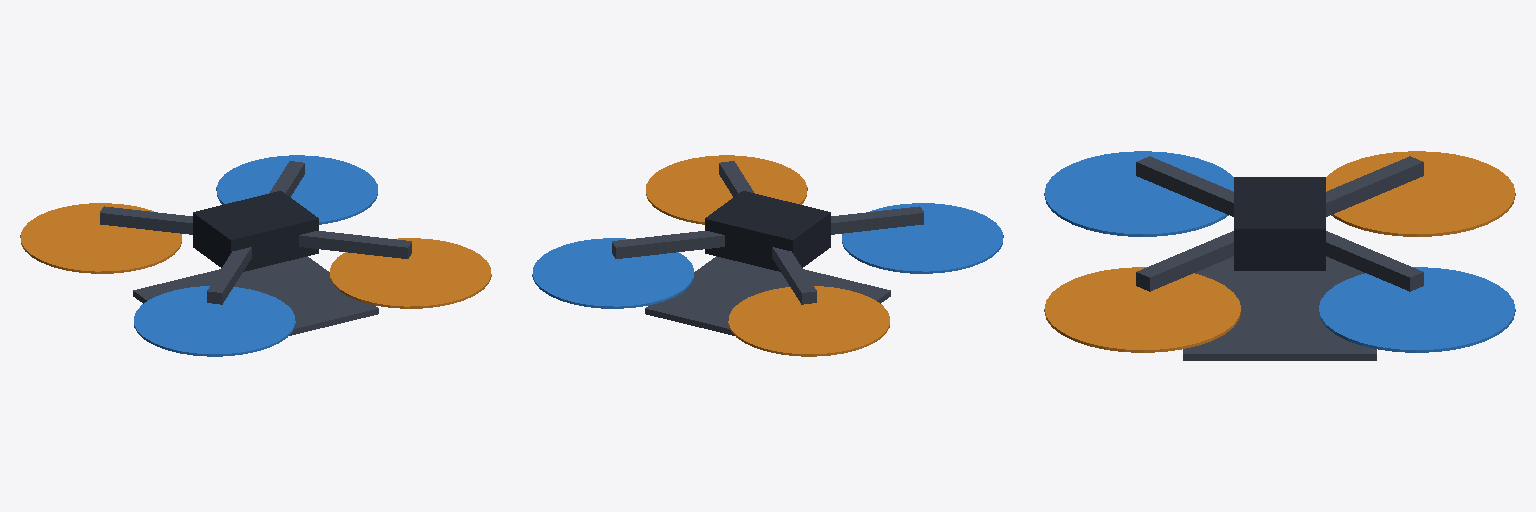
robot.urdf — quad_x500_inverted:
<?xml version="1.0"?>
<!-- The sample quadcopter with its motors upside down under the arms: each propeller sits 4 cm
     below its arm and pushes the air down past nothing but the ground (a pusher on its motor).
     The joint axes point from the motor to the propeller, down; the overlay mounts the
     propellers as pushers, so their thrust is up. Otherwise quad_x500.urdf: PX4's Quadrotor X
     numbering and senses seen from above, the same frame, rotors, motors and battery
     (quad_x500.overlay.yaml with aero:rotor:mount pusher). Illustrative, not a real product. -->
<robot name="quad_x500_inverted">
  <material name="frame"><color rgba="0.18 0.2 0.24 1"/></material>
  <material name="arm"><color rgba="0.3 0.33 0.38 1"/></material>
  <material name="prop_ccw"><color rgba="0.85 0.55 0.2 1"/></material>
  <material name="prop_cw"><color rgba="0.25 0.55 0.85 1"/></material>

  <link name="base_link">
    <!-- 1.9 kg: frame, arms, battery, electronics; inertia of a 2 kg X500-class airframe. -->
    <inertial>
      <origin xyz="0 0 0"/>
      <mass value="1.9"/>
      <inertia ixx="0.0217" iyy="0.0217" izz="0.04" ixy="0" ixz="0" iyz="0"/>
    </inertial>
    <visual>
      <geometry><box size="0.16 0.12 0.06"/></geometry>
      <material name="frame"/>
    </visual>
    <visual>
      <origin xyz="0 0 0" rpy="0 0 0.7853981634"/>
      <geometry><box size="0.5 0.025 0.02"/></geometry>
      <material name="arm"/>
    </visual>
    <visual>
      <origin xyz="0 0 0" rpy="0 0 -0.7853981634"/>
      <geometry><box size="0.5 0.025 0.02"/></geometry>
      <material name="arm"/>
    </visual>
    <visual>
      <origin xyz="0 0 -0.12"/>
      <geometry><box size="0.3 0.25 0.01"/></geometry>
      <material name="arm"/>
    </visual>
    <collision>
      <geometry><box size="0.16 0.12 0.06"/></geometry>
    </collision>
    <!-- Landing gear: a skid plate 12.5 cm under the frame's centre. -->
    <collision>
      <origin xyz="0 0 -0.12"/>
      <geometry><box size="0.3 0.25 0.01"/></geometry>
    </collision>
  </link>
  <link name="rotor_1_link">
    <!-- Motor bell and propeller: 25 g; about the axis like a 10-inch two-blade propeller. -->
    <inertial>
      <mass value="0.025"/>
      <inertia ixx="0.000045" iyy="0.000045" izz="0.00009" ixy="0" ixz="0" iyz="0"/>
    </inertial>
    <visual>
      <geometry><cylinder radius="0.127" length="0.004"/></geometry>
      <material name="prop_ccw"/>
    </visual>
  </link>
  <joint name="rotor_1_joint" type="continuous">
    <parent link="base_link"/>
    <child link="rotor_1_link"/>
    <origin xyz="0.177 -0.177 -0.04"/>
    <axis xyz="0 0 -1"/>
  </joint>
  <link name="rotor_2_link">
    <!-- Motor bell and propeller: 25 g; about the axis like a 10-inch two-blade propeller. -->
    <inertial>
      <mass value="0.025"/>
      <inertia ixx="0.000045" iyy="0.000045" izz="0.00009" ixy="0" ixz="0" iyz="0"/>
    </inertial>
    <visual>
      <geometry><cylinder radius="0.127" length="0.004"/></geometry>
      <material name="prop_ccw"/>
    </visual>
  </link>
  <joint name="rotor_2_joint" type="continuous">
    <parent link="base_link"/>
    <child link="rotor_2_link"/>
    <origin xyz="-0.177 0.177 -0.04"/>
    <axis xyz="0 0 -1"/>
  </joint>
  <link name="rotor_3_link">
    <!-- Motor bell and propeller: 25 g; about the axis like a 10-inch two-blade propeller. -->
    <inertial>
      <mass value="0.025"/>
      <inertia ixx="0.000045" iyy="0.000045" izz="0.00009" ixy="0" ixz="0" iyz="0"/>
    </inertial>
    <visual>
      <geometry><cylinder radius="0.127" length="0.004"/></geometry>
      <material name="prop_cw"/>
    </visual>
  </link>
  <joint name="rotor_3_joint" type="continuous">
    <parent link="base_link"/>
    <child link="rotor_3_link"/>
    <origin xyz="0.177 0.177 -0.04"/>
    <axis xyz="0 0 -1"/>
  </joint>
  <link name="rotor_4_link">
    <!-- Motor bell and propeller: 25 g; about the axis like a 10-inch two-blade propeller. -->
    <inertial>
      <mass value="0.025"/>
      <inertia ixx="0.000045" iyy="0.000045" izz="0.00009" ixy="0" ixz="0" iyz="0"/>
    </inertial>
    <visual>
      <geometry><cylinder radius="0.127" length="0.004"/></geometry>
      <material name="prop_cw"/>
    </visual>
  </link>
  <joint name="rotor_4_joint" type="continuous">
    <parent link="base_link"/>
    <child link="rotor_4_link"/>
    <origin xyz="-0.177 -0.177 -0.04"/>
    <axis xyz="0 0 -1"/>
  </joint>
  <!-- The motors take torque commands (from the built-in controller, or an autopilot through
       the MAVLink bridge), which the electrical domain turns into motor torque. -->
  <ros2_control name="LagrangeSystem" type="system">
    <hardware>
      <plugin>lagrange_ros2_control/LagrangeSystem</plugin>
    </hardware>
    <joint name="rotor_1_joint">
      <command_interface name="effort"/>
      <state_interface name="position"/>
      <state_interface name="velocity"/>
    </joint>
    <joint name="rotor_2_joint">
      <command_interface name="effort"/>
      <state_interface name="position"/>
      <state_interface name="velocity"/>
    </joint>
    <joint name="rotor_3_joint">
      <command_interface name="effort"/>
      <state_interface name="position"/>
      <state_interface name="velocity"/>
    </joint>
    <joint name="rotor_4_joint">
      <command_interface name="effort"/>
      <state_interface name="position"/>
      <state_interface name="velocity"/>
    </joint>
  </ros2_control>
</robot>

--- Facts derived from the render (not from the file) ---
3 views of the same robot in one strip: view 1: azimuth 30°, elevation 25°; view 2: azimuth 150°, elevation 25°; view 3: azimuth 270°, elevation 25° (orthographic).
Model quad_x500_inverted with 5 links and 4 joints (4 continuous), rooted at base_link, posed all joints at 0.
Visible links, largest first — view 1: base_link, rotor_4_link, rotor_1_link, rotor_2_link, rotor_3_link; view 2: base_link, rotor_2_link, rotor_3_link, rotor_4_link, rotor_1_link; view 3: base_link, rotor_1_link, rotor_3_link, rotor_2_link, rotor_4_link.
Boxes of the visible links, bbox=[...] form: base_link: bbox=[100, 161, 411, 335]; rotor_4_link: bbox=[134, 286, 295, 356]; rotor_1_link: bbox=[330, 238, 491, 308]; rotor_2_link: bbox=[20, 203, 181, 273]; rotor_3_link: bbox=[216, 155, 377, 224]; base_link: bbox=[612, 161, 923, 335]; rotor_2_link: bbox=[728, 286, 889, 356]; rotor_3_link: bbox=[532, 238, 693, 308]; rotor_4_link: bbox=[842, 203, 1003, 273]; rotor_1_link: bbox=[646, 155, 807, 224]; base_link: bbox=[1136, 156, 1423, 360]; rotor_1_link: bbox=[1044, 267, 1240, 352]; rotor_3_link: bbox=[1319, 267, 1515, 352]; rotor_2_link: bbox=[1326, 151, 1515, 236]; rotor_4_link: bbox=[1044, 151, 1233, 236].
Size in the robot's own frame: 0.608 by 0.608 by 0.155 metres.
Geometry: primitives only (box / cylinder / sphere), no mesh files.
